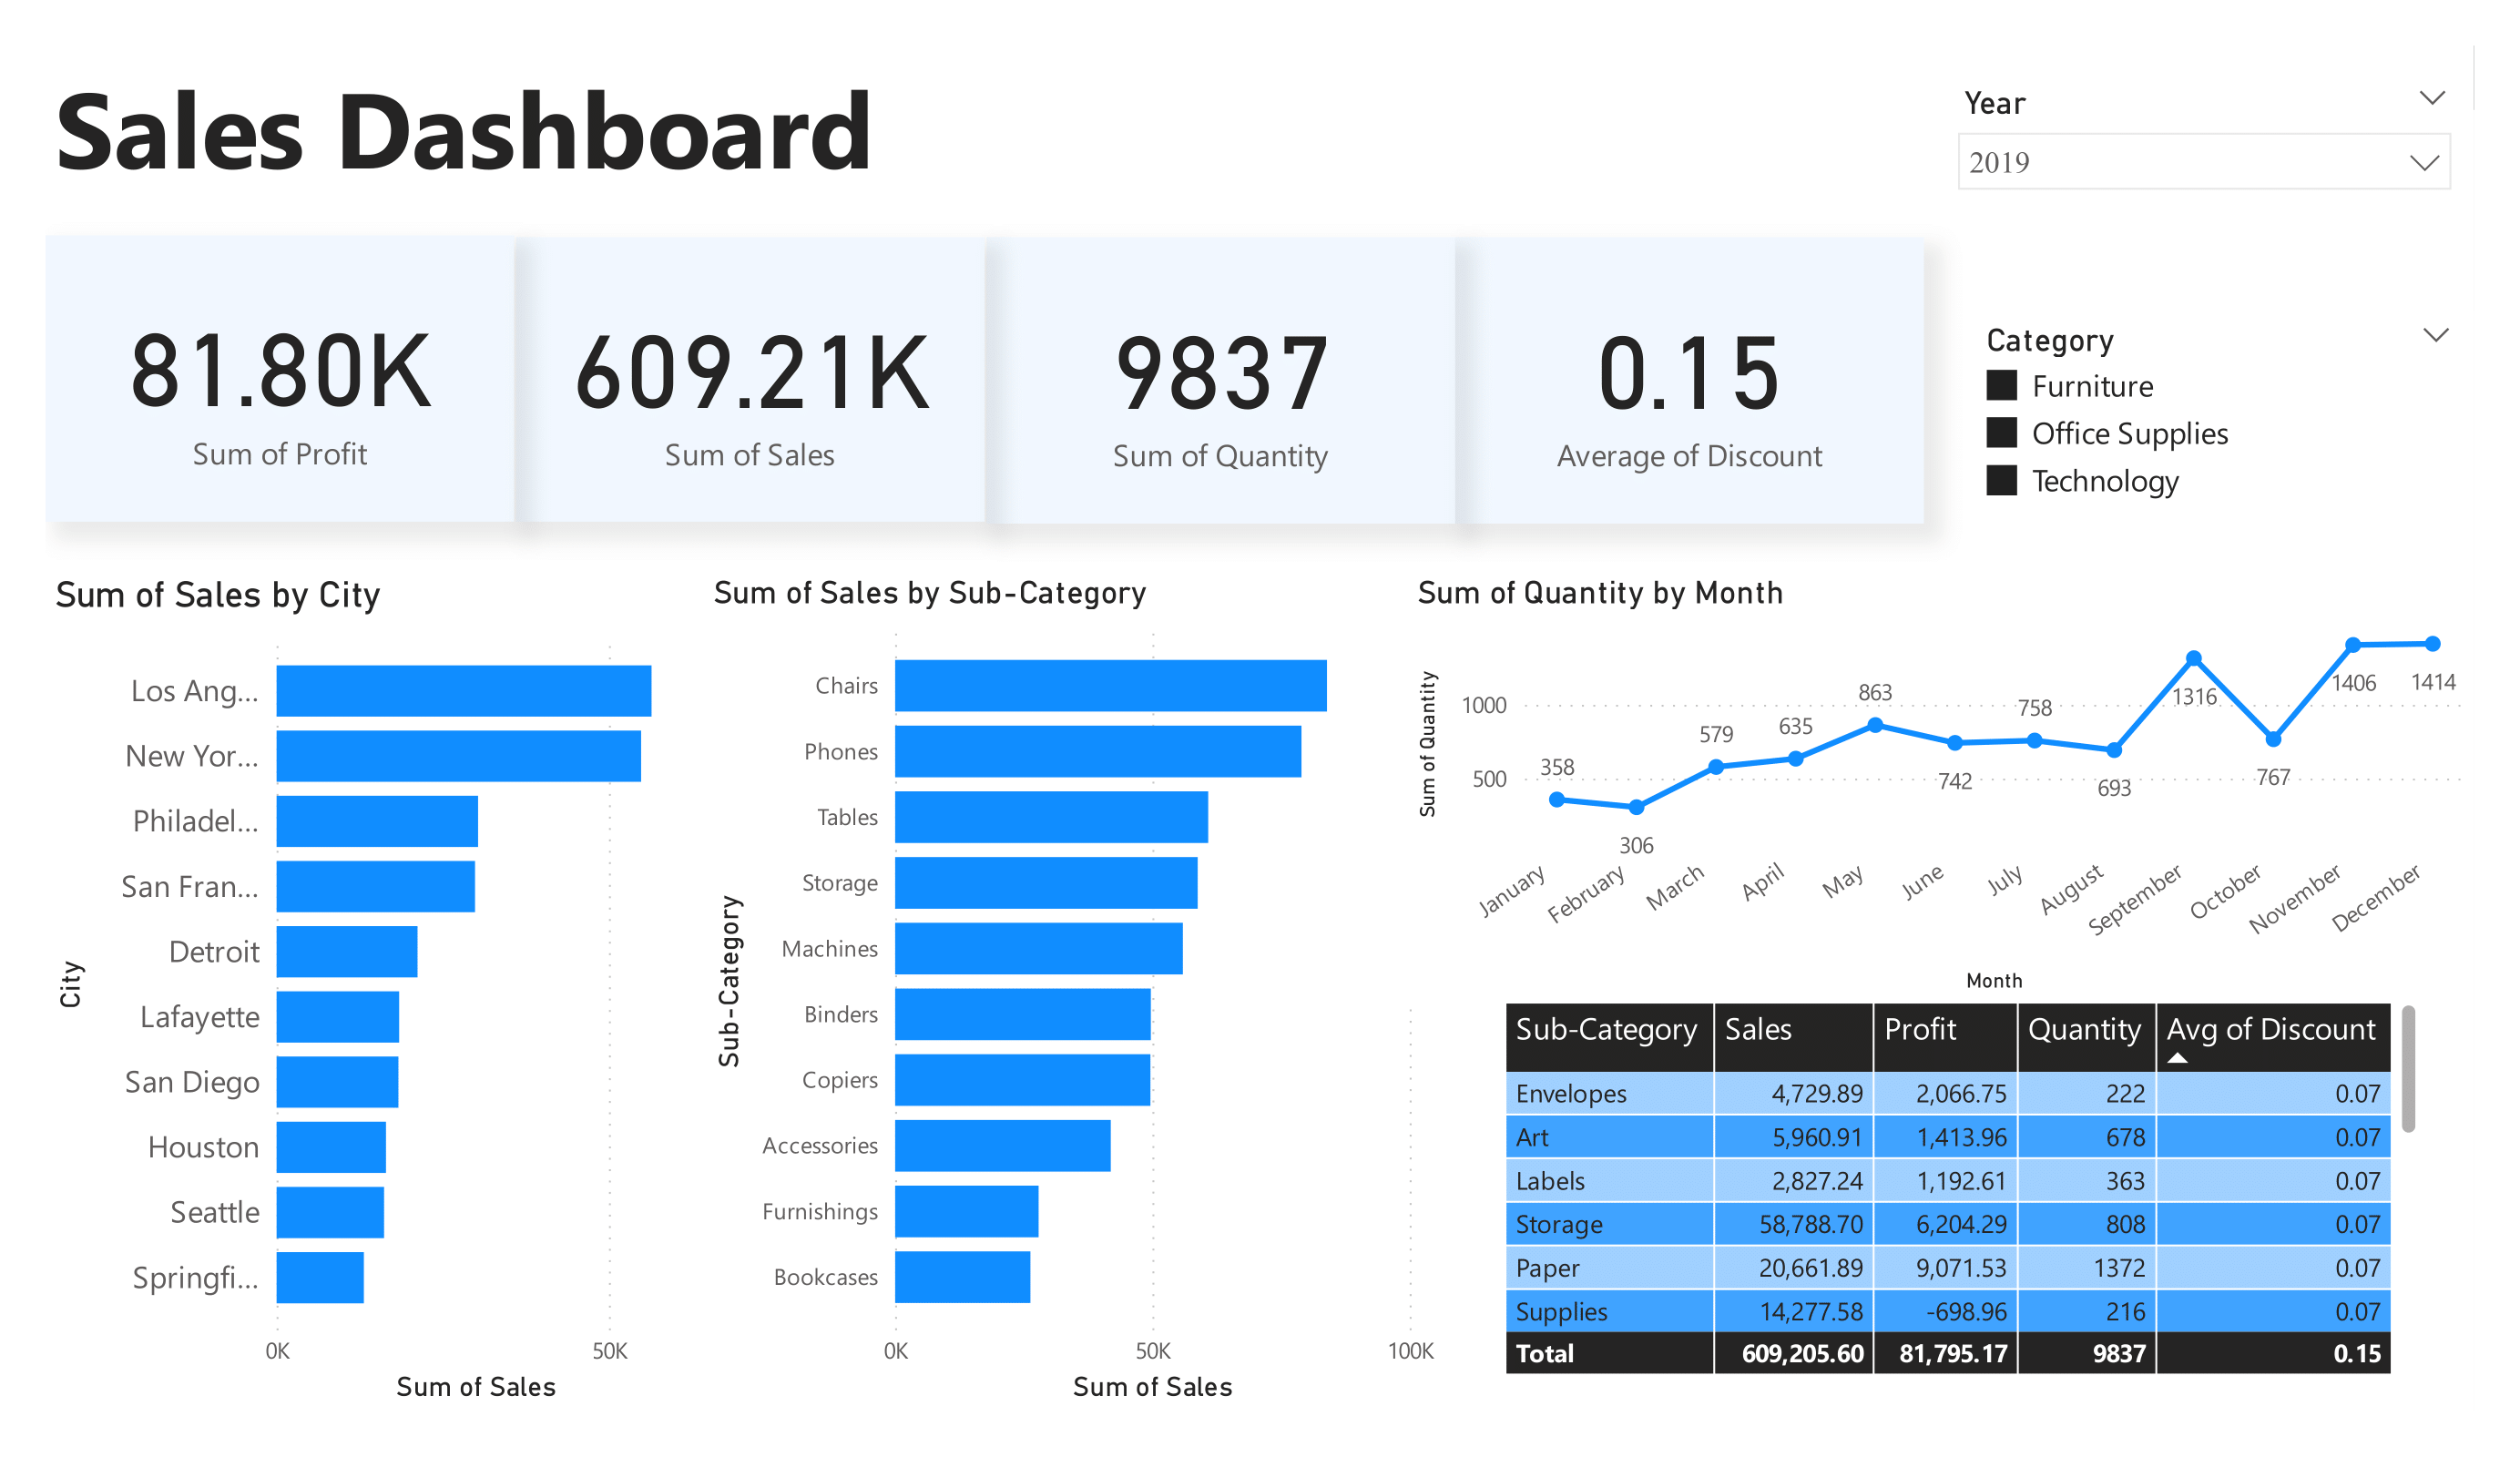

The page's visual inventory and layout, read from the dashboard file:
{"tool":"powerbi","page":{"name":"Final","canvas":[1280,720],"ordinal":0},"visuals":[{"type":"slicer","fields":{"Values":["Orders.Year"]},"box":[998.2,15.4,280,150],"z":0},{"type":"card","fields":{"Values":["Sum(Orders.Sales)"]},"box":[247.6,100.8,247.1,149.6],"z":1000,"group":"g2"},{"type":"slicer","fields":{"Values":["Orders.Category"]},"box":[1010.1,140.1,269.4,119.9],"z":1000},{"type":"card","fields":{"Values":["Sum(Orders.Quantity)"]},"box":[495.8,100.9,247.1,150.7],"z":2000,"group":"g2"},{"type":"tableEx","fields":{"Values":["Orders.Sub-Category","Sum(Orders.Sales)","Sum(Orders.Profit)","Sum(Orders.Quantity)","Avg(Orders.Discount)"]},"box":[764.4,499.7,490.2,205.3],"z":2000},{"type":"card","fields":{"Values":["Sum(Orders.Profit)"]},"box":[0,99.7,247.1,150.7],"z":3000,"group":"g2"},{"type":"barChart","fields":{"Category":["Orders.City"],"Y":["Sum(Orders.Sales)"]},"box":[0,277.7,346.6,442.7],"z":3000},{"type":"barChart","fields":{"Y":["Sum(Orders.Sales)"],"Category":["Orders.Sub-Category"]},"box":[346.6,277.7,390.5,442.7],"z":4000},{"type":"lineChart","fields":{"Category":["Orders.Order Date.Variation.Date Hierarchy.Month"],"Y":["Sum(Orders.Quantity)"]},"box":[718.1,277.7,561.4,226.7],"z":5000},{"type":"textbox","box":[0,0,473.6,99.7],"z":6000},{"type":"group","id":"g1","title":"Group 1","box":[0,99.7,989.9,151.9],"z":7000},{"type":"group","id":"g2","title":"Group 2","box":[0,99.7,989.9,151.9],"z":7001,"group":"g1"},{"type":"card","fields":{"Values":["Avg(Orders.Discount)"]},"box":[742.9,100.9,247.1,150.7],"z":9000,"group":"g2"}]}

Visuals, with their boxes on the page's 1280x720 design canvas (x1, y1, x2, y2). These are canvas units, not pixel positions in the 2520x1457 screenshot, which may show the page scaled, cropped or inside an application window:
slicer - Orders.Year: l=998, t=15, r=1278, b=165
card - Sum(Orders.Sales): l=248, t=101, r=495, b=250
slicer - Orders.Category: l=1010, t=140, r=1280, b=260
card - Sum(Orders.Quantity): l=496, t=101, r=743, b=252
tableEx - Orders.Sub-Category x Sum(Orders.Sales): l=764, t=500, r=1255, b=705
card - Sum(Orders.Profit): l=0, t=100, r=247, b=250
barChart - Orders.City x Sum(Orders.Sales): l=0, t=278, r=347, b=720
barChart - Sum(Orders.Sales) x Orders.Sub-Category: l=347, t=278, r=737, b=720
lineChart - Orders.Order Date.Variation.Date Hierarchy.Month x Sum(Orders.Quantity): l=718, t=278, r=1280, b=504
textbox: l=0, t=0, r=474, b=100
"Group 1" group: l=0, t=100, r=990, b=252
"Group 2" group: l=0, t=100, r=990, b=252
card - Avg(Orders.Discount): l=743, t=101, r=990, b=252
